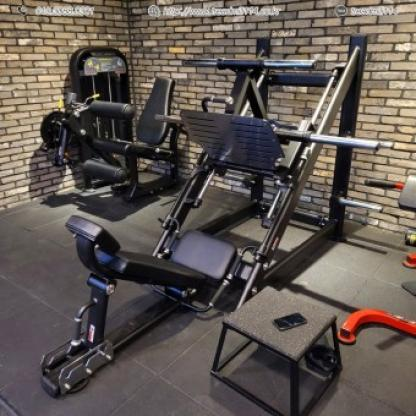leg press: (34, 27, 391, 404)
